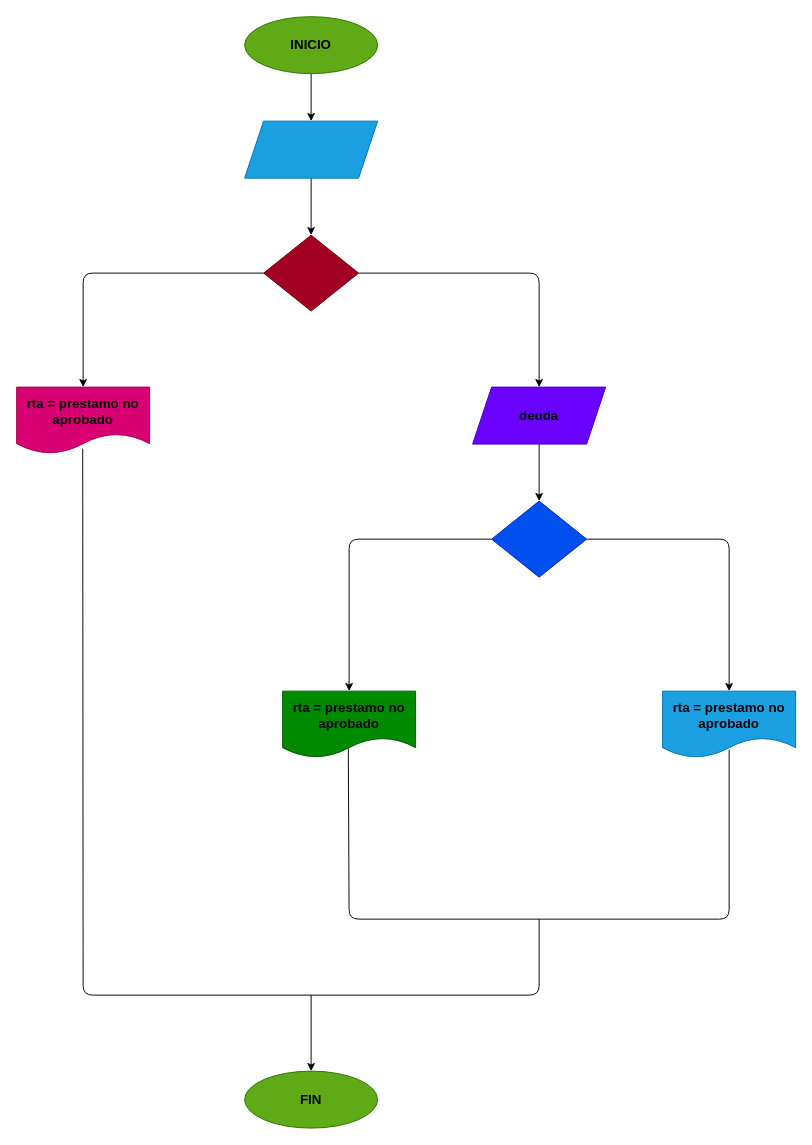
Some shapes in this 812 by 1145 pixel diagram are drawn without their labels. Here are the shapes that lost their labels. From the top down, the centre of each, then its label:
At (311,149): "ing".
At (311,272): "ing > 945200".
At (539,538): "deuda == 0".
